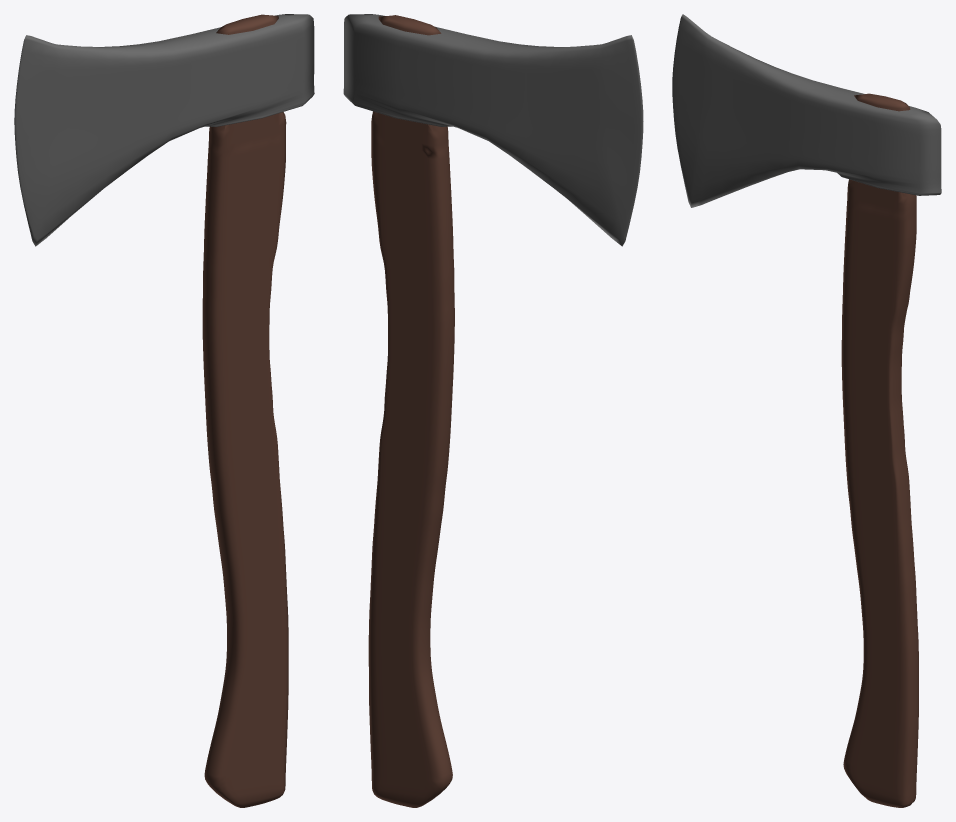
Rendered from balta.fbx.
The picture shows the model from 3 angles, left to right: view 1: azimuth 30°, elevation 25°; view 2: azimuth 150°, elevation 25°; view 3: azimuth 330°, elevation 25°; orthographic projection. The views are drawn at different scales.
Parts seen in each view (by area): view 1: blata; view 2: blata; view 3: blata.
Part boxes in pixels (x1=…): blata: x1=14, y1=14, x2=314, y2=807; blata: x1=343, y1=14, x2=643, y2=807; blata: x1=672, y1=14, x2=941, y2=807.
Size of the model in its own units: 180 by 473 by 20.69.
